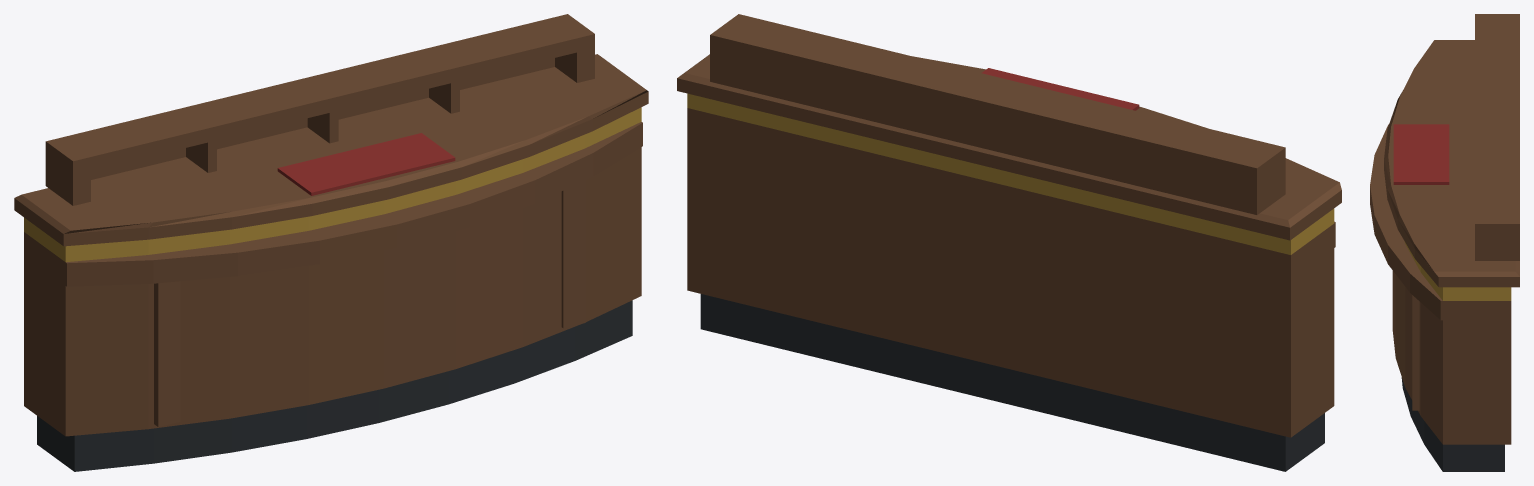
Rendered from prop-reception-counter.glb.
3 renders of one model, left to right at view 1: azimuth 30°, elevation 25°; view 2: azimuth 150°, elevation 25°; view 3: azimuth 270°, elevation 25°, orthographic. The views are drawn at different scales.
Parts seen in each view (by area): view 1: prop-reception-counter; view 2: prop-reception-counter; view 3: prop-reception-counter.
Boxes of the visible parts, x1=… form: prop-reception-counter: x1=14, y1=14, x2=648, y2=471; prop-reception-counter: x1=677, y1=14, x2=1341, y2=471; prop-reception-counter: x1=1370, y1=14, x2=1519, y2=471.
Bounding box in the file's own units: 2.6 × 1.24 × 0.7.
